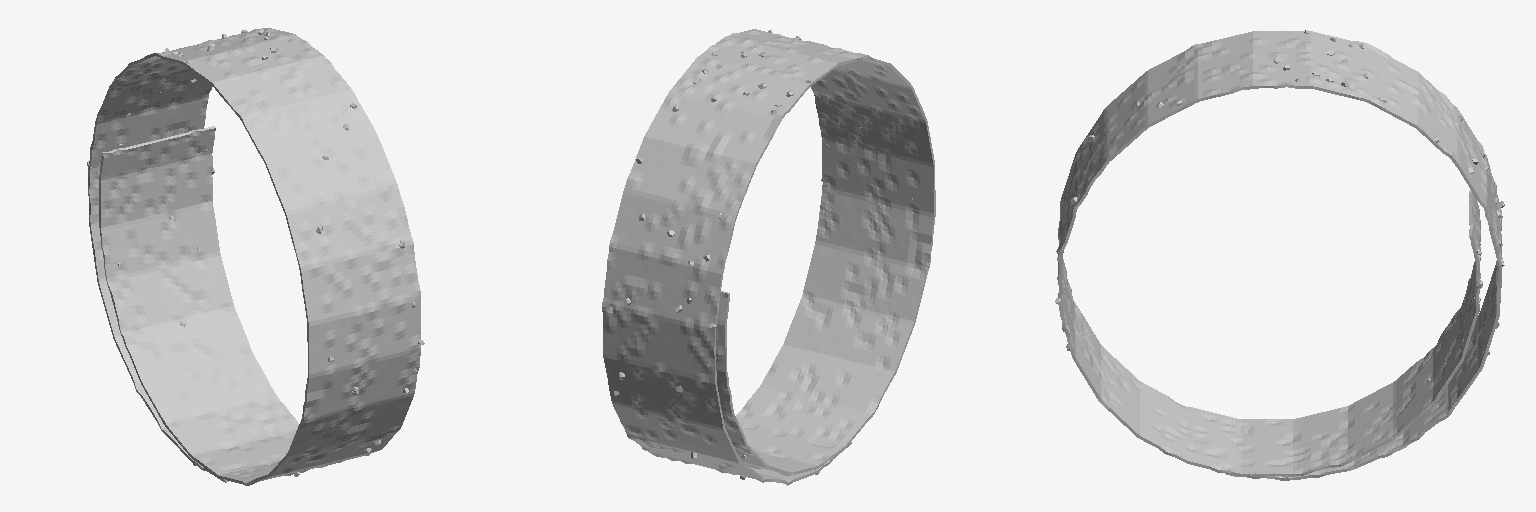
The model's file is floor_roll.obj.
3 renders of one model, left to right at view 1: azimuth 30°, elevation 25°; view 2: azimuth 150°, elevation 25°; view 3: azimuth 270°, elevation 25°, orthographic.
Visible parts, largest first — view 1: floor_roll; view 2: floor_roll; view 3: floor_roll.
Boxes of the visible parts, <box> form: floor_roll: <box>87,28,424,485</box>; floor_roll: <box>602,29,935,485</box>; floor_roll: <box>1055,30,1504,480</box>.
Bounding box in the file's own units: 10.8 × 35.6 × 36.05.